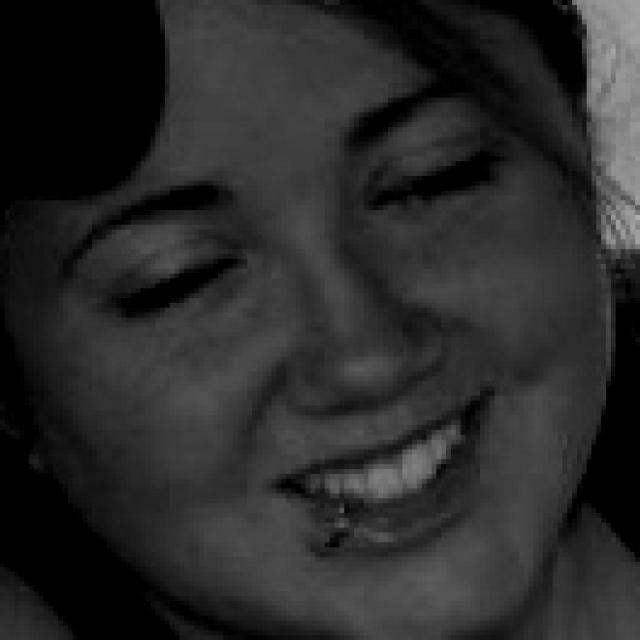real: (0, 0, 596, 629), (88, 110, 526, 316)
